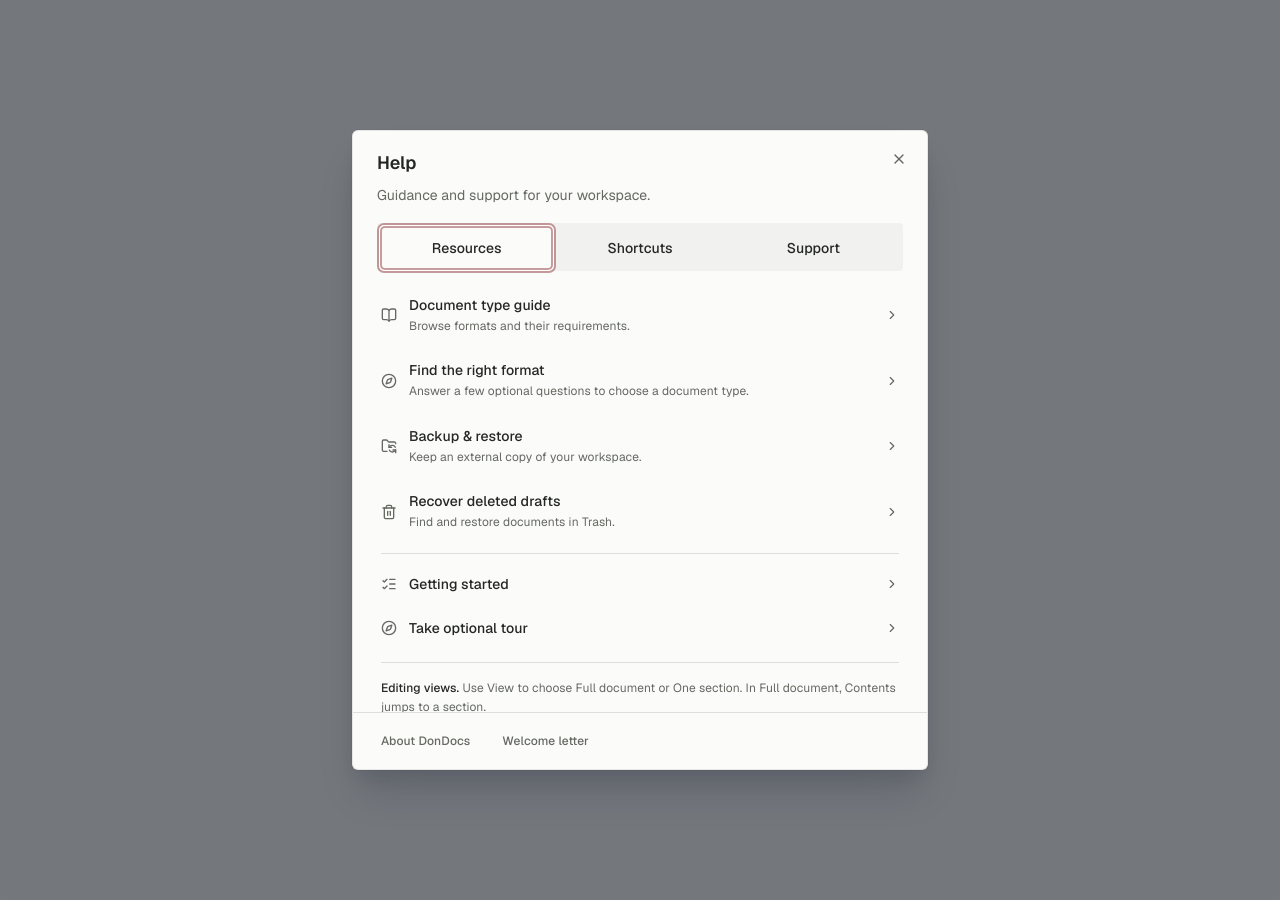
Scenario: workspace settings and help › opens backup settings from Help and retains focus in the new dialog
The width and height of the screenshot is (1280, 900).
What coordinates should you click on to do the following:
click the button "Backup & restore"
I would click on:
 (640, 446)
Its box is [369, 414, 911, 479].
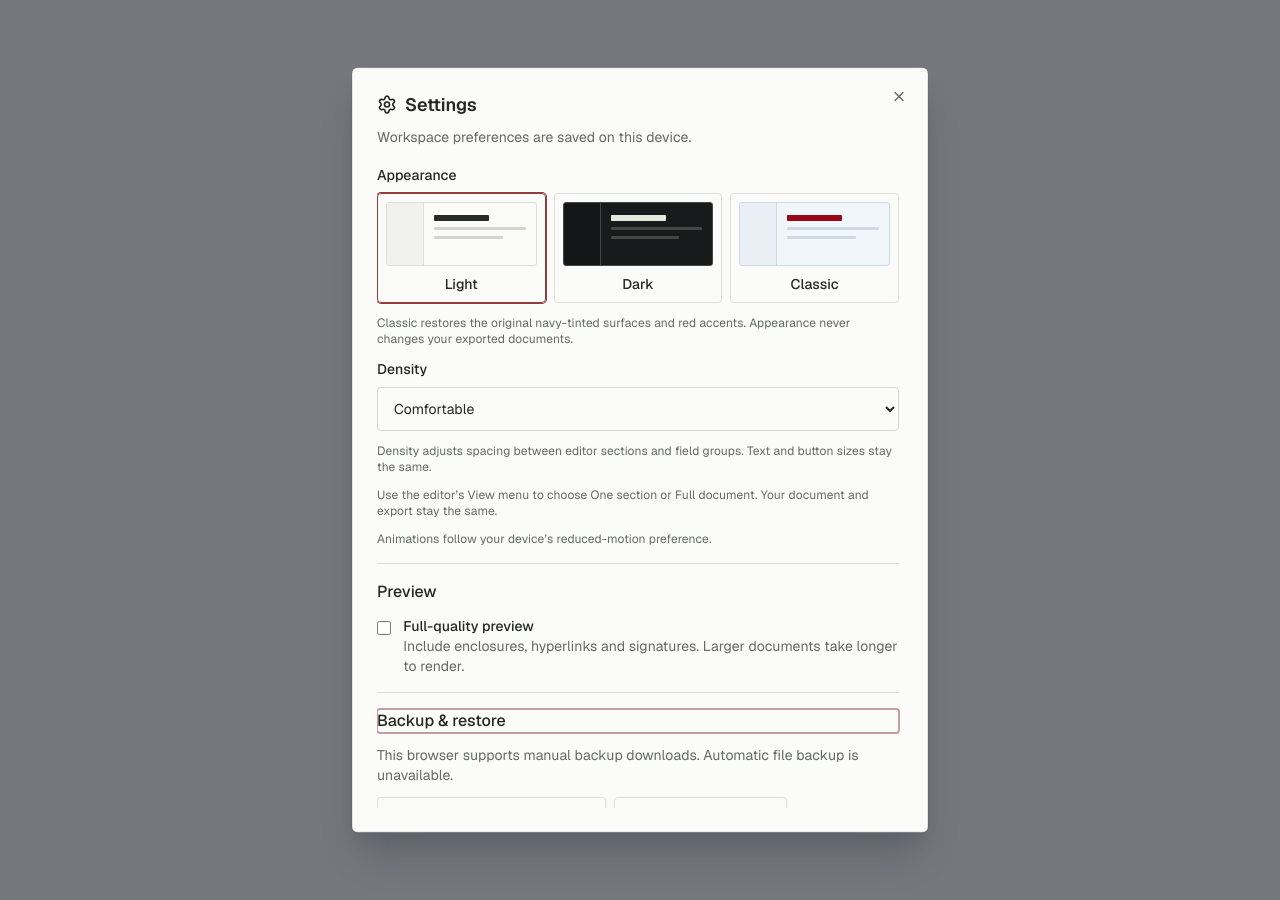
Expected: the heading "Help" is gone
Expected: the dialog "Settings" is shown, [352, 68, 928, 832]
